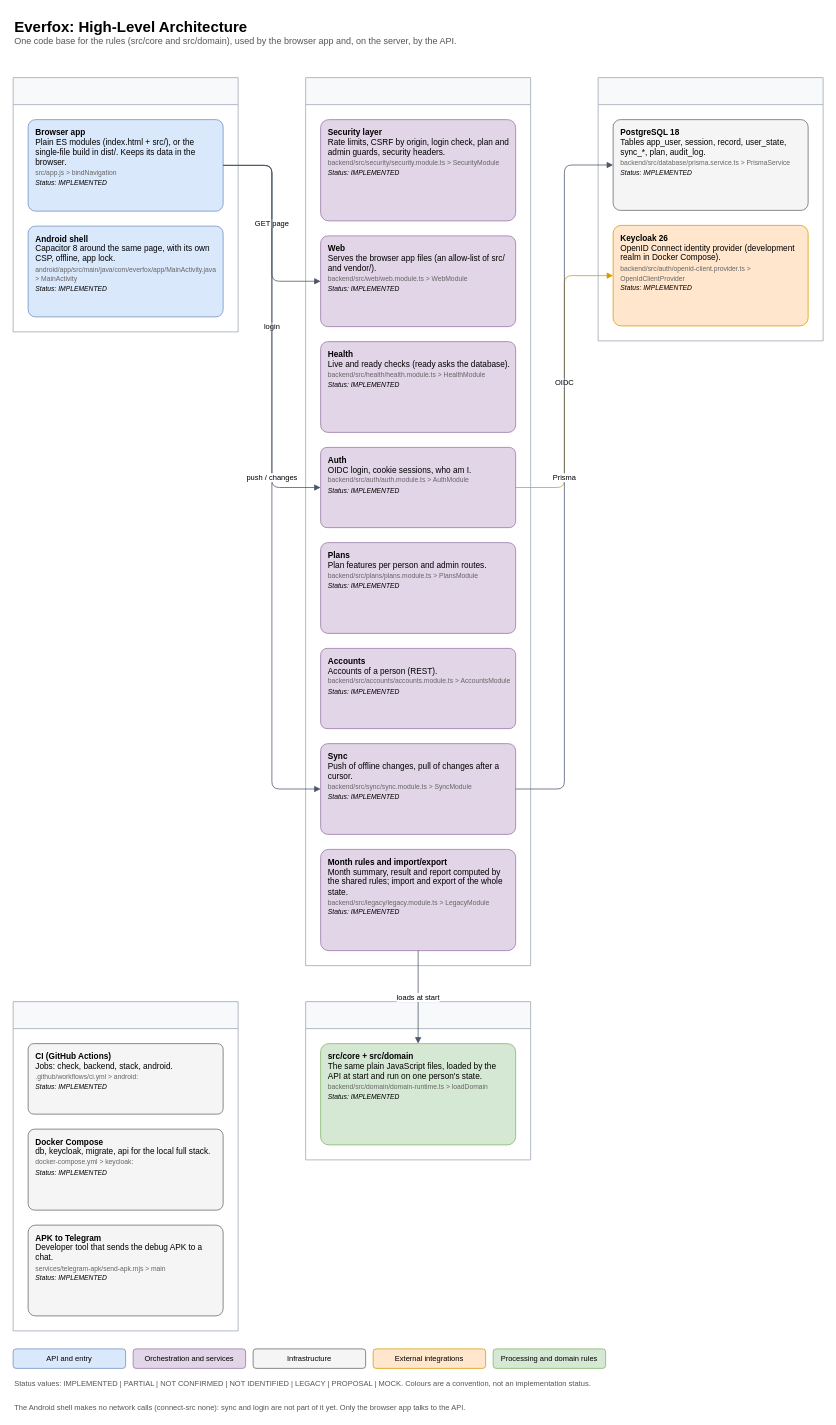
Some shapes in this 836 by 1425 pixel diagram are drawn without their labels. Each missing label, with the box of its shape:
API (NestJS 12 on Fastify 5): (305, 77, 531, 966)
Build and delivery: (12, 1001, 238, 1331)
Clients: (12, 77, 238, 332)
Data and identity: (597, 77, 823, 341)
Shared rules: (305, 1001, 531, 1160)
